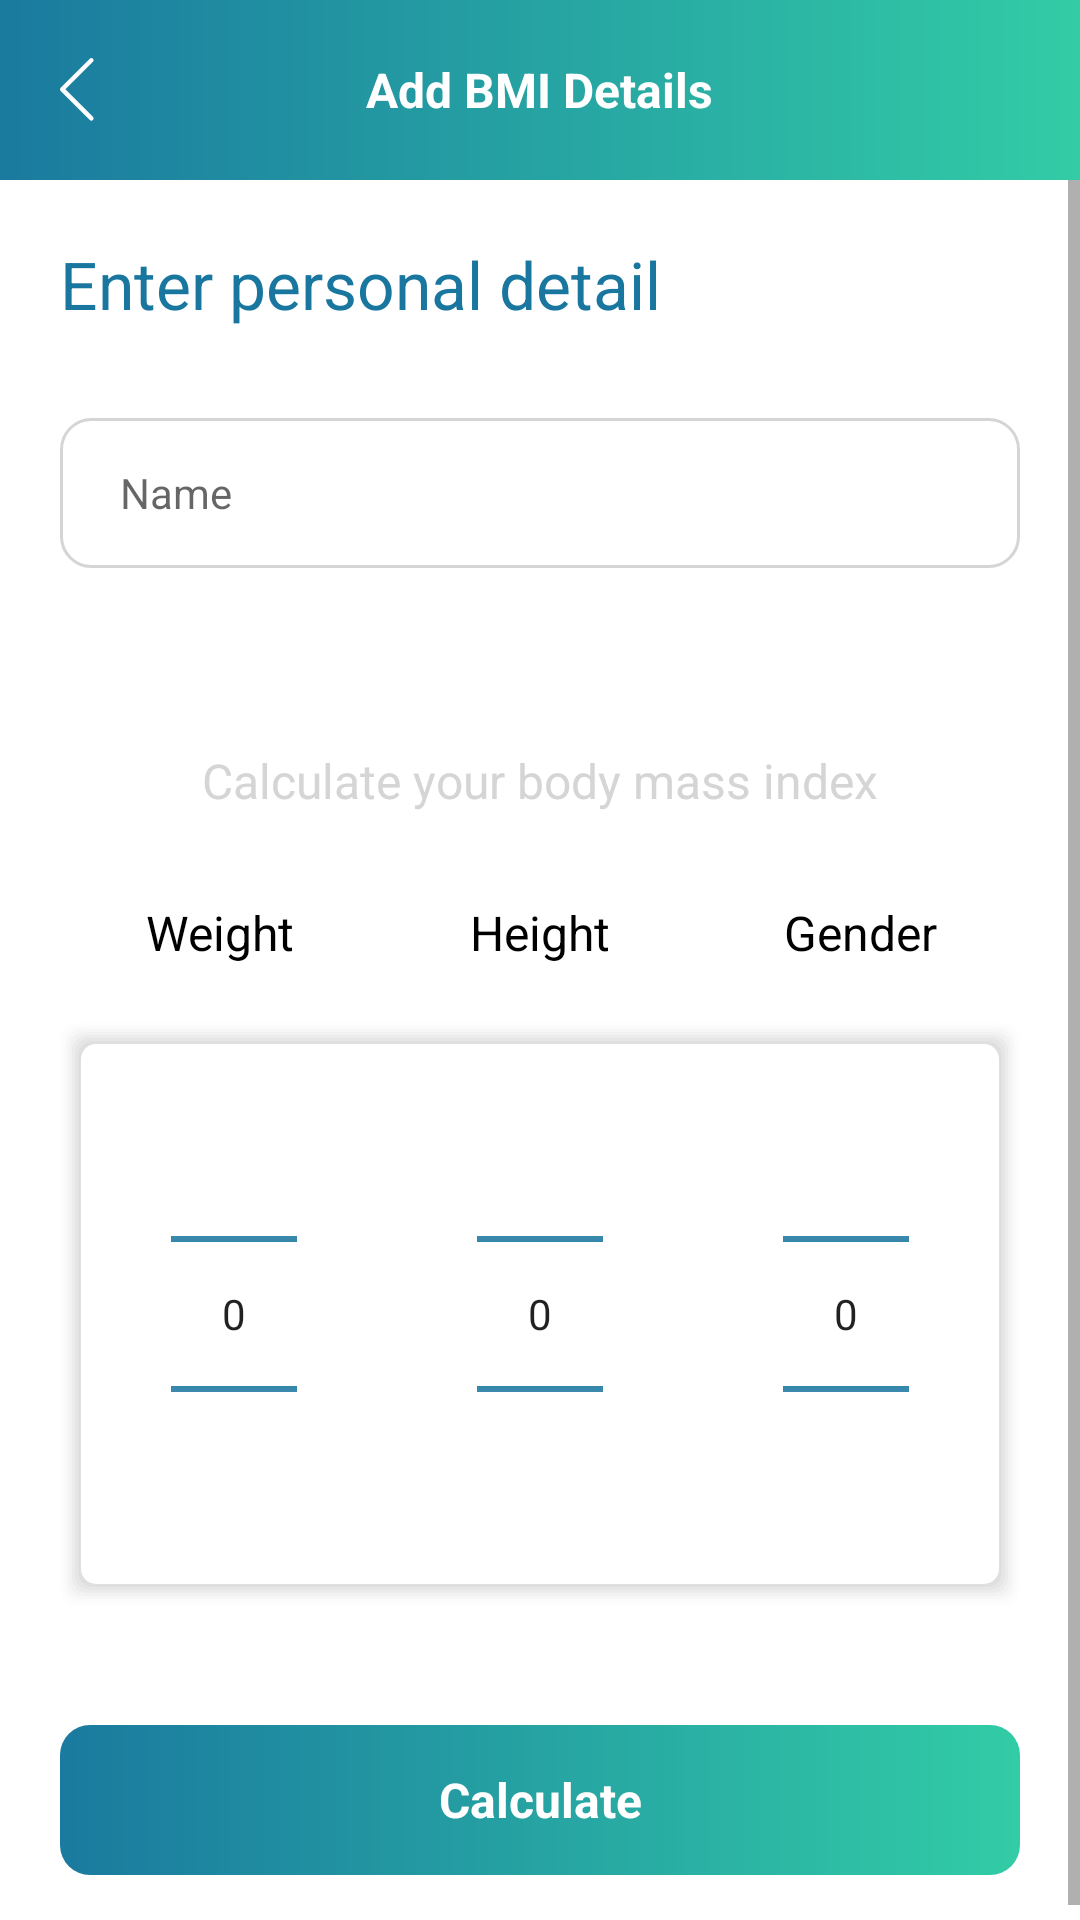

Where to tap for icons on this 1080px x 1920px app screen, as (x=x, y=y):
back: (x=77, y=89)
